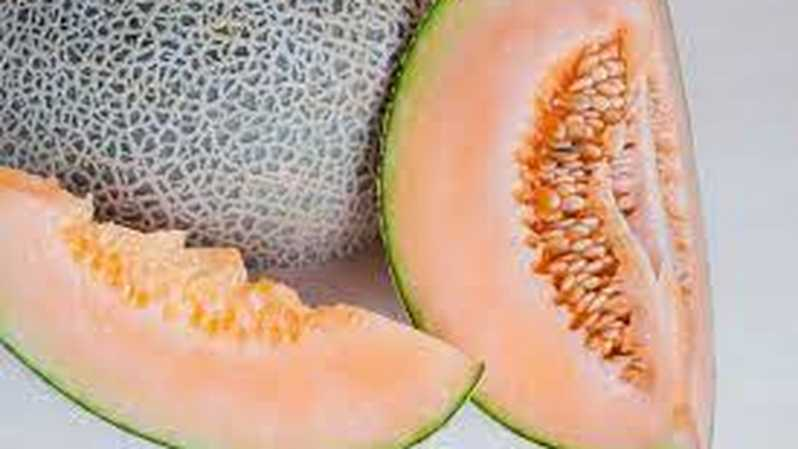Melon: (1, 170, 484, 445)
